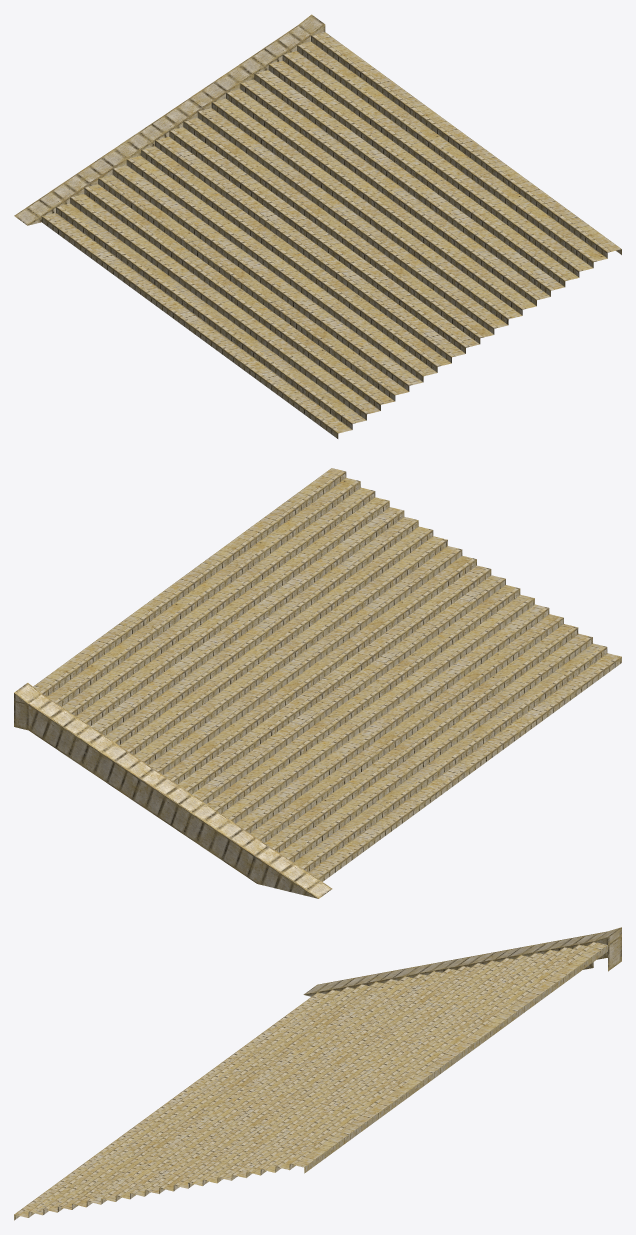
The model's file is tutorial_structure_stairs05_wide.dae.
3 views of the same model, one above another, from view 1: azimuth 30°, elevation 25°; view 2: azimuth 150°, elevation 25°; view 3: azimuth 330°, elevation 25° (orthographic). The views are drawn at different scales.
Visible parts, largest first — view 1: tutorial_structure_stairs05_wide; view 2: tutorial_structure_stairs05_wide; view 3: tutorial_structure_stairs05_wide.
Boxes of the visible parts, left/top/right/bottom form: tutorial_structure_stairs05_wide: left=14, top=14, right=621, bottom=438; tutorial_structure_stairs05_wide: left=14, top=468, right=621, bottom=898; tutorial_structure_stairs05_wide: left=14, top=927, right=621, bottom=1220.
Size of the model in its own units: 9.41 by 17 by 3.89.
Materials: 2 (2 with a texture image).
